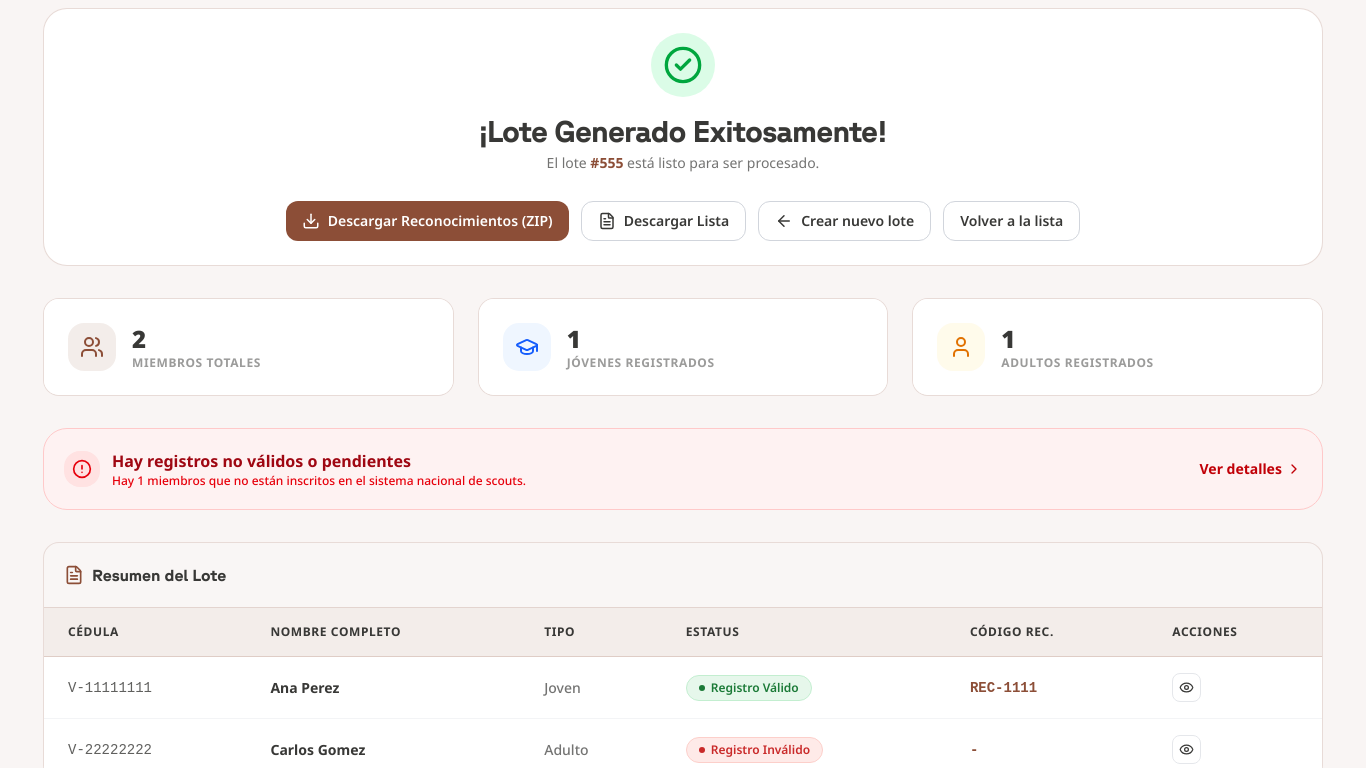
Test: SuccessPage component › renders batch success metrics, members table, and downloads PDF report and member list
Check: the heading "¡Lote Generado Exitosamente!" is shown, box 479,113 -> 887,148
Check: the column heading "CÉDULA" is shown, box 44,608 -> 246,656
Trigger certificates ZIP download
Step 1. Click the button "Descargar Reconocimientos (ZIP)" → (427, 221), box 286,201 -> 569,241
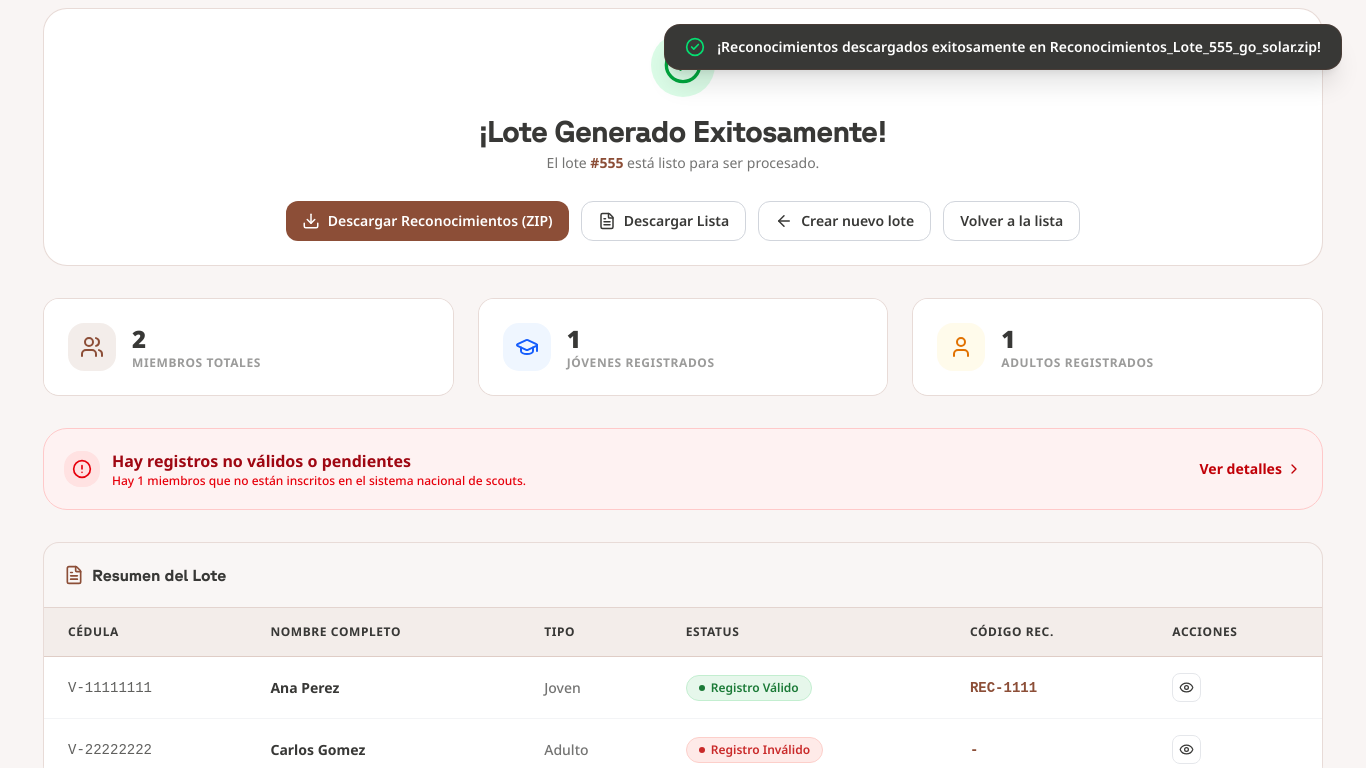
Check: the text "¡Reconocimientos descargados exitosamente en Reconocimientos_Lote_555_go_solar.zip!" is shown, box 717,37 -> 1321,56
Trigger members list PDF report download
Step 2. Click the button "Descargar Lista" → (663, 221), box 581,201 -> 746,241
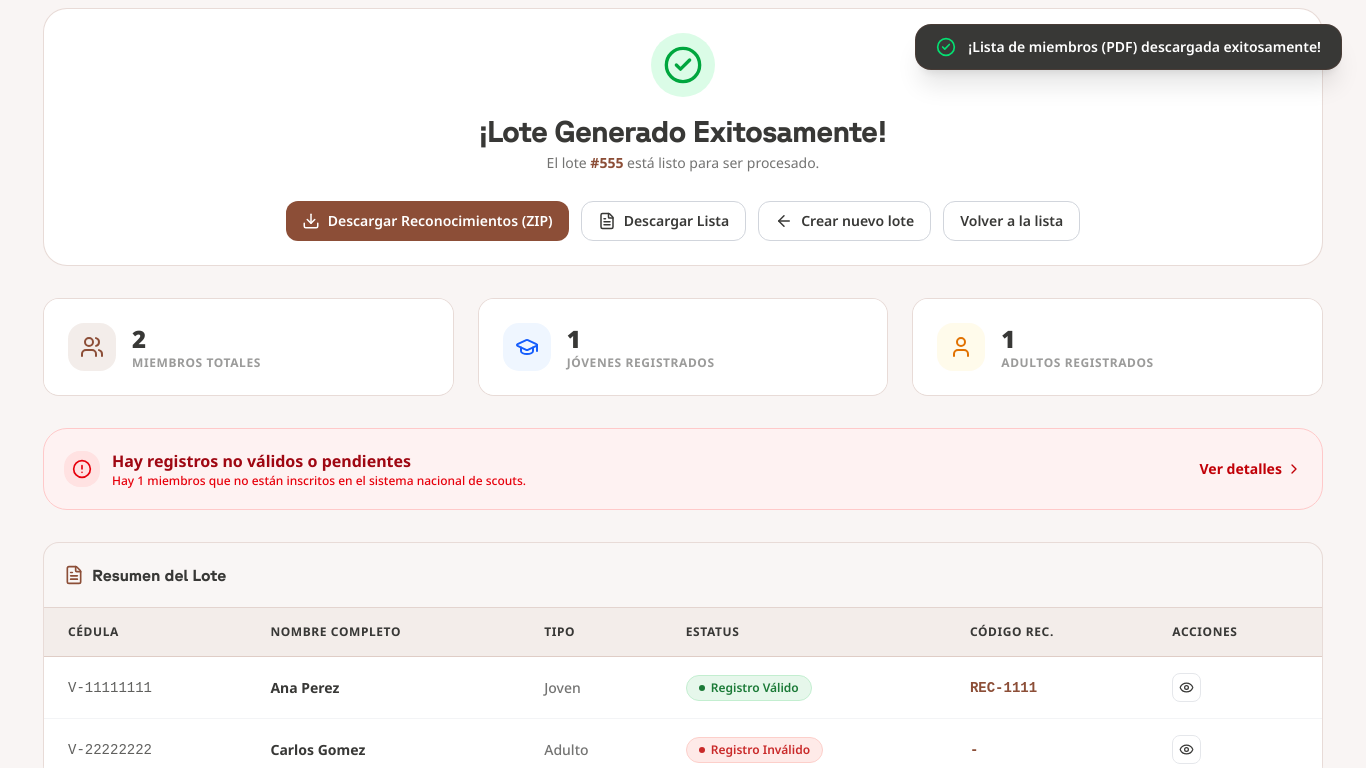
Check: the text "¡Lista de miembros (PDF) descargada exitosamente!" is shown, box 968,37 -> 1321,57
